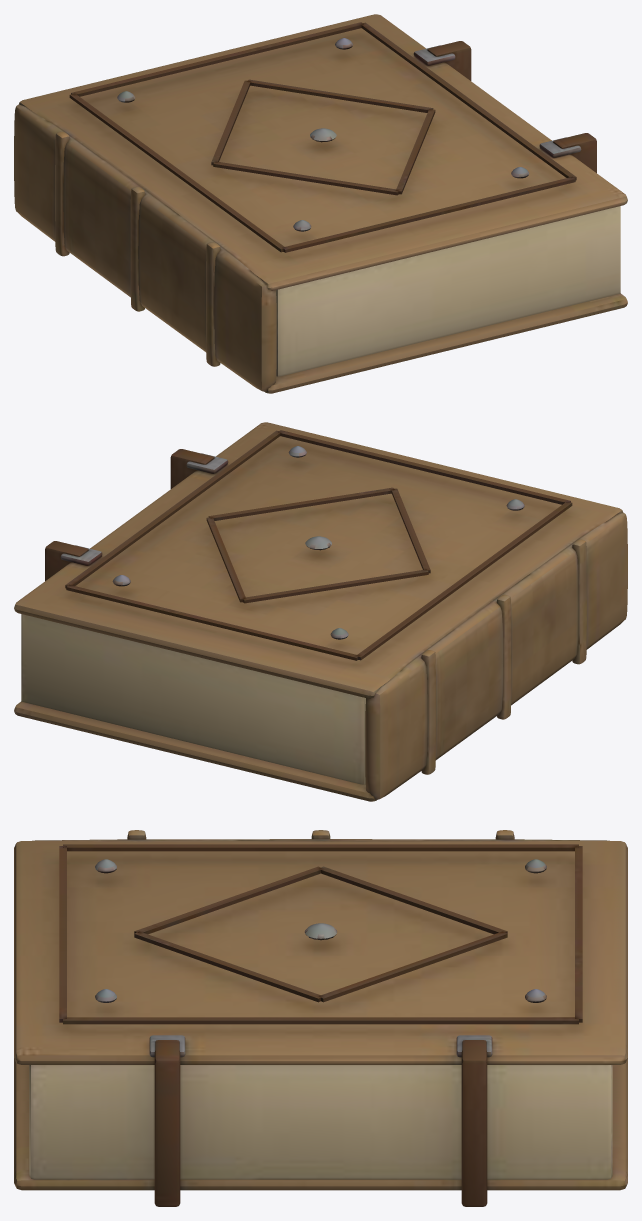
Rendered from celsus.glb.
3 views of the same model, one above another, from view 1: azimuth 30°, elevation 25°; view 2: azimuth 150°, elevation 25°; view 3: azimuth 270°, elevation 25° (orthographic). The views are drawn at different scales.
Visible parts, largest first — view 1: celsus; view 2: celsus; view 3: celsus.
Part boxes in pixels (<box>): celsus: <box>14,14,627,393</box>; celsus: <box>14,422,627,801</box>; celsus: <box>14,830,627,1206</box>.
Bounding box in the file's own units: 0.219 × 0.0714 × 0.24.
1 material, 1 textured.
